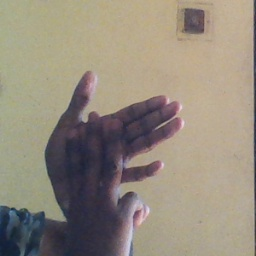M: (35, 70, 185, 235)
